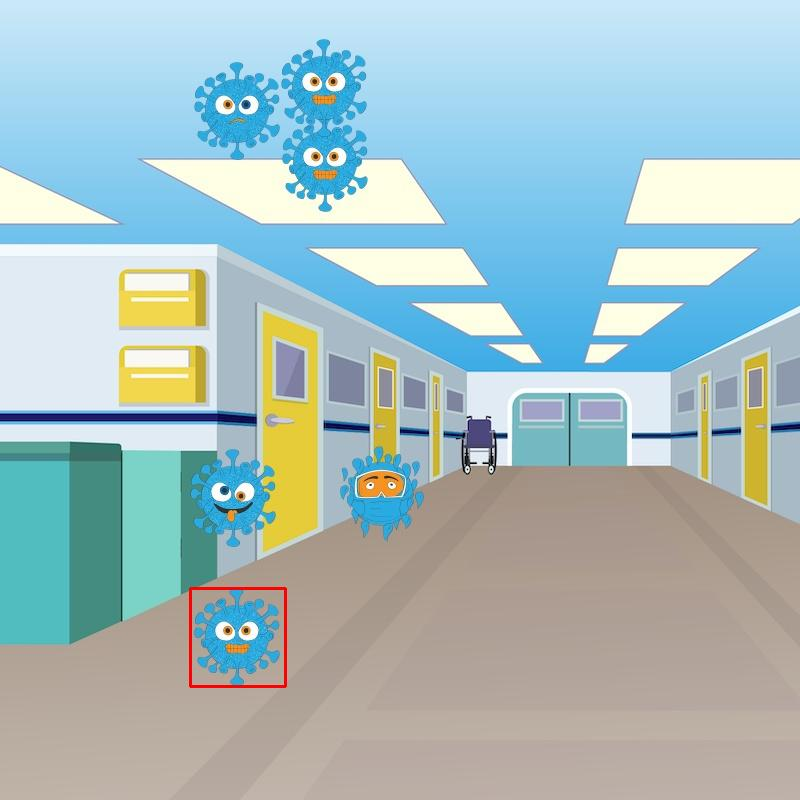corona1: (196, 588, 284, 685), (282, 120, 372, 213), (282, 35, 371, 128)
corona2: (191, 60, 282, 160)
corona3: (191, 448, 286, 549)
doctor: (341, 446, 422, 537)
